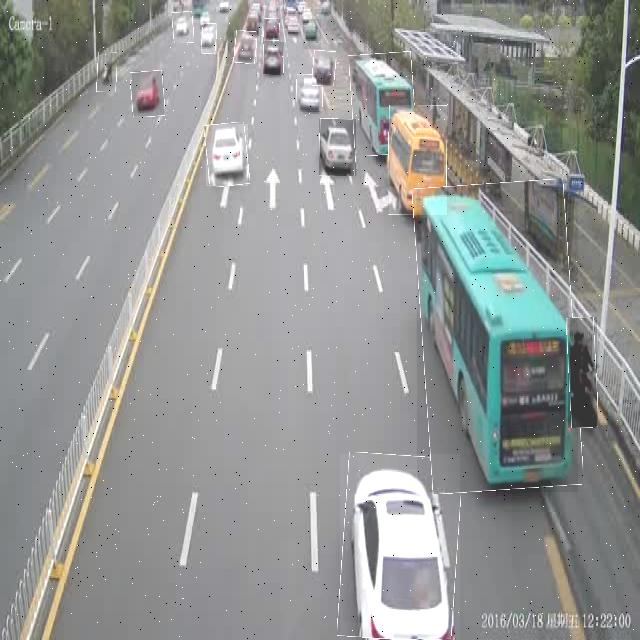Bus: (417, 182, 578, 492), (351, 52, 416, 155), (389, 105, 447, 215)
Car: (340, 454, 460, 640), (206, 124, 248, 186), (319, 119, 356, 176), (132, 71, 164, 116), (297, 74, 323, 111), (312, 51, 336, 86), (234, 31, 257, 63), (263, 41, 284, 75), (173, 12, 194, 43), (303, 19, 321, 49), (201, 23, 217, 54), (263, 19, 280, 41), (287, 12, 301, 38)
Motorcycle: (568, 317, 597, 428), (97, 52, 116, 92)
